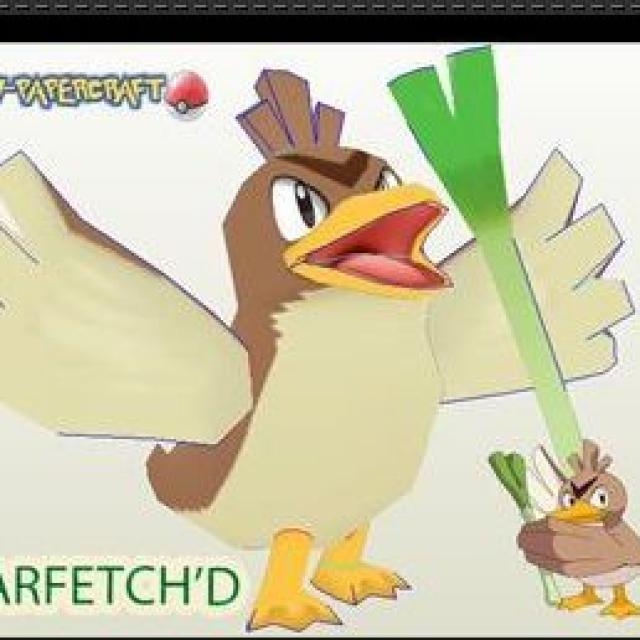Farfetchd: (149, 49, 518, 615), (486, 439, 640, 605)
